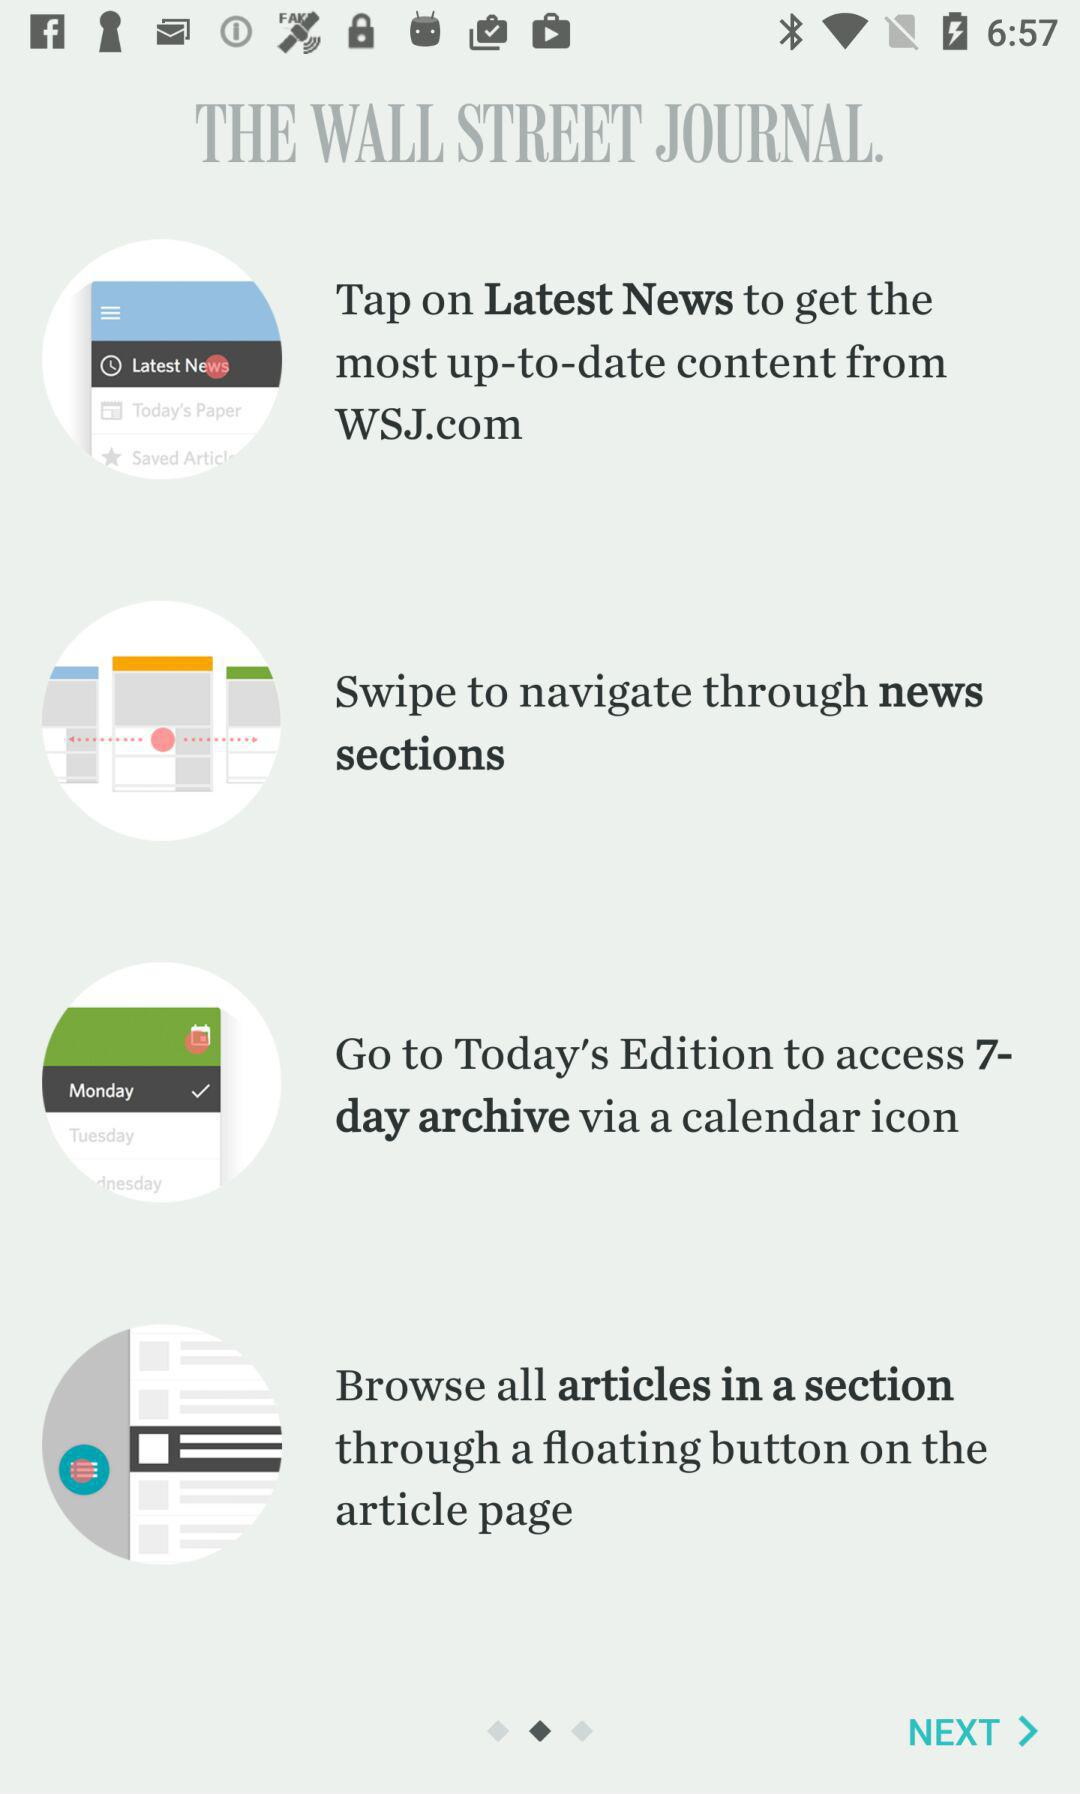Icon: (1017, 1715, 1039, 1748)
Image: (42, 1324, 284, 1567), (41, 240, 284, 481), (42, 962, 284, 1203), (40, 601, 282, 842)
PageIndicator: (486, 1718, 596, 1744)
Text: (334, 1365, 989, 1536), (334, 281, 947, 443), (334, 1034, 1013, 1144), (334, 671, 984, 773), (195, 103, 884, 165), (908, 1717, 1001, 1748)
UpperTaskBar: (1, 1, 1080, 58)
